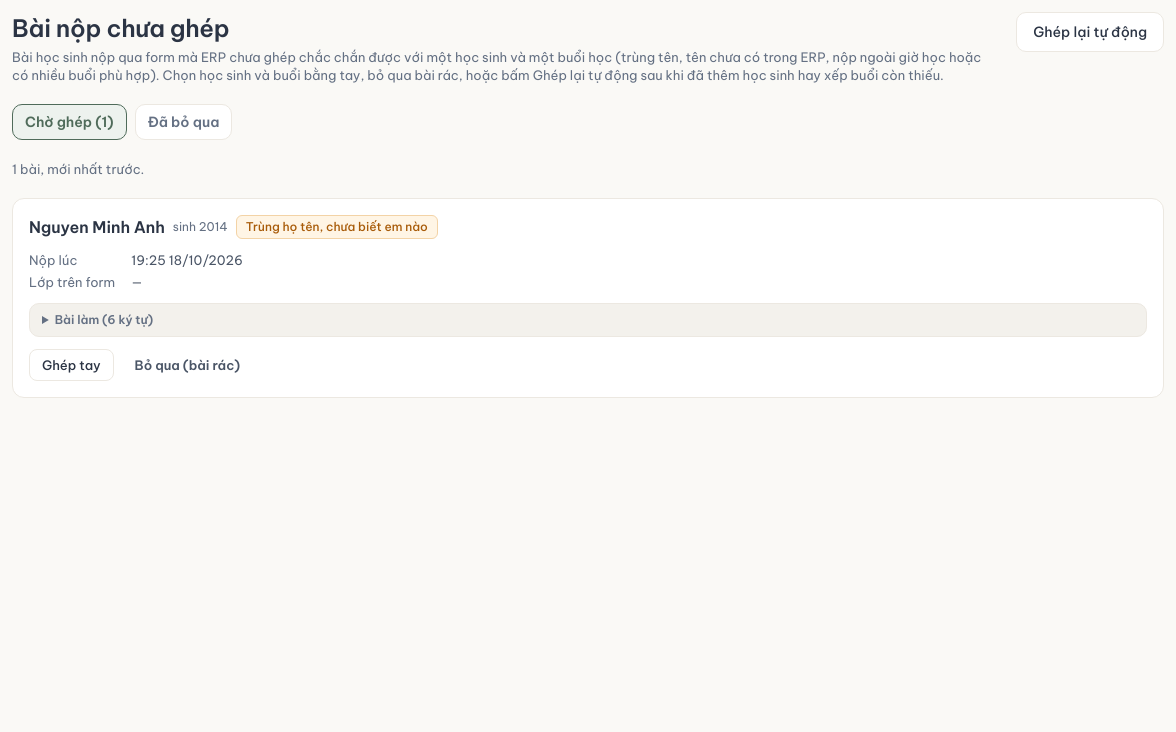
Test: ignore (bài rác) › goes back without doing anything on Hủy
Click the button "Bỏ qua (bài rác)": [187, 365] box left=122, top=349, right=253, bottom=381
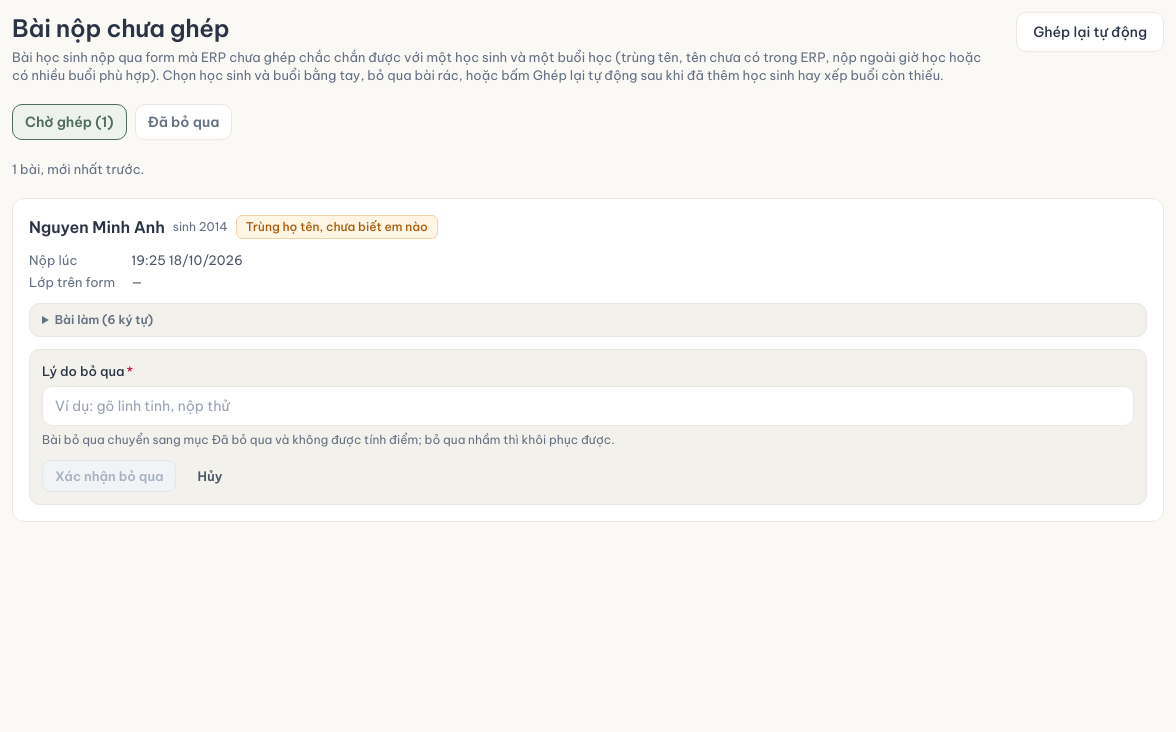
Click the button "Hủy": [210, 476] box left=184, top=460, right=235, bottom=492
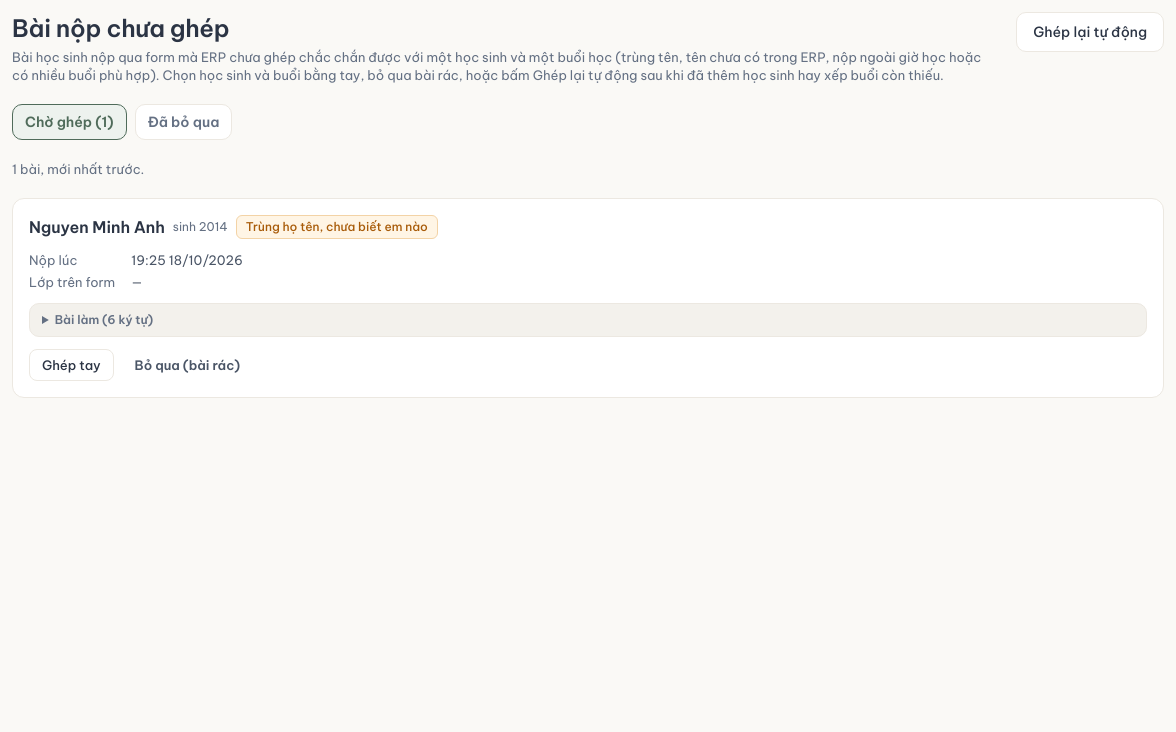
Check: the button "Ghép tay" is shown, box left=29, top=349, right=114, bottom=381
